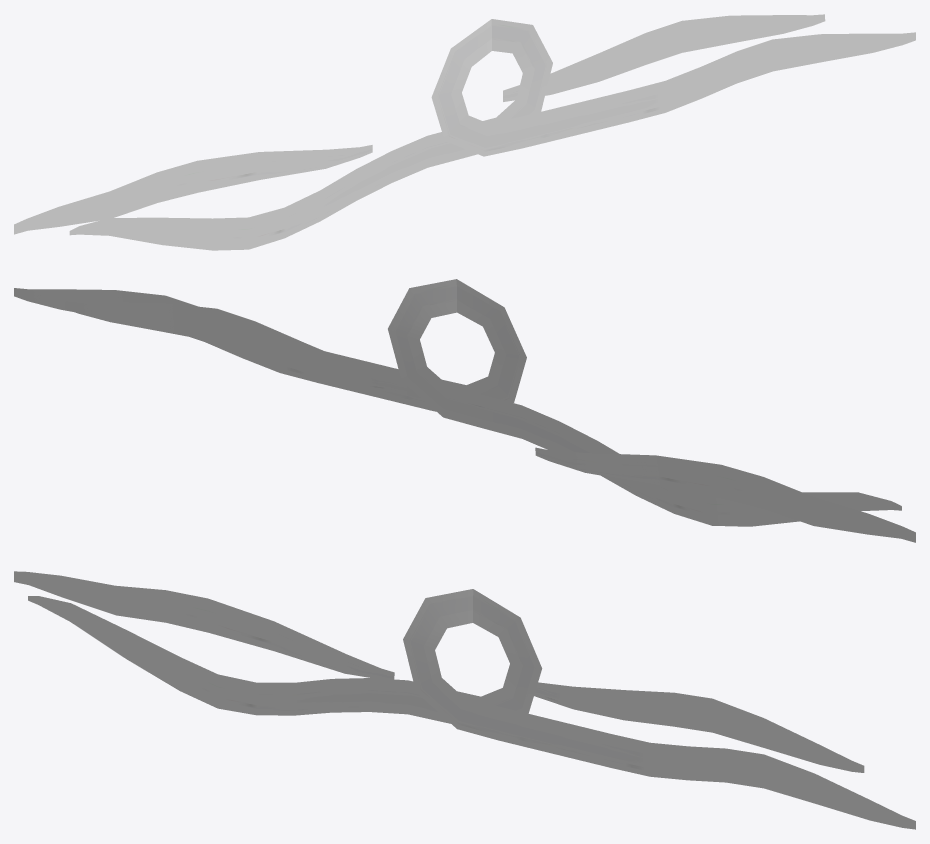
Rendered from wind_fx_01.fbx.
3 renders of one model, top to bottom at view 1: azimuth 30°, elevation 25°; view 2: azimuth 150°, elevation 25°; view 3: azimuth 330°, elevation 25°, orthographic. The views are drawn at different scales.
Visible parts, largest first — view 1: wind_fx_01; view 2: wind_fx_01; view 3: wind_fx_01.
Boxes of the visible parts, x1,y1,x2,y2 form: wind_fx_01: [14, 14, 915, 250]; wind_fx_01: [14, 279, 915, 542]; wind_fx_01: [14, 571, 915, 829].
Size of the model in its own units: 2693 by 507 by 140.
1 material, 1 textured.
